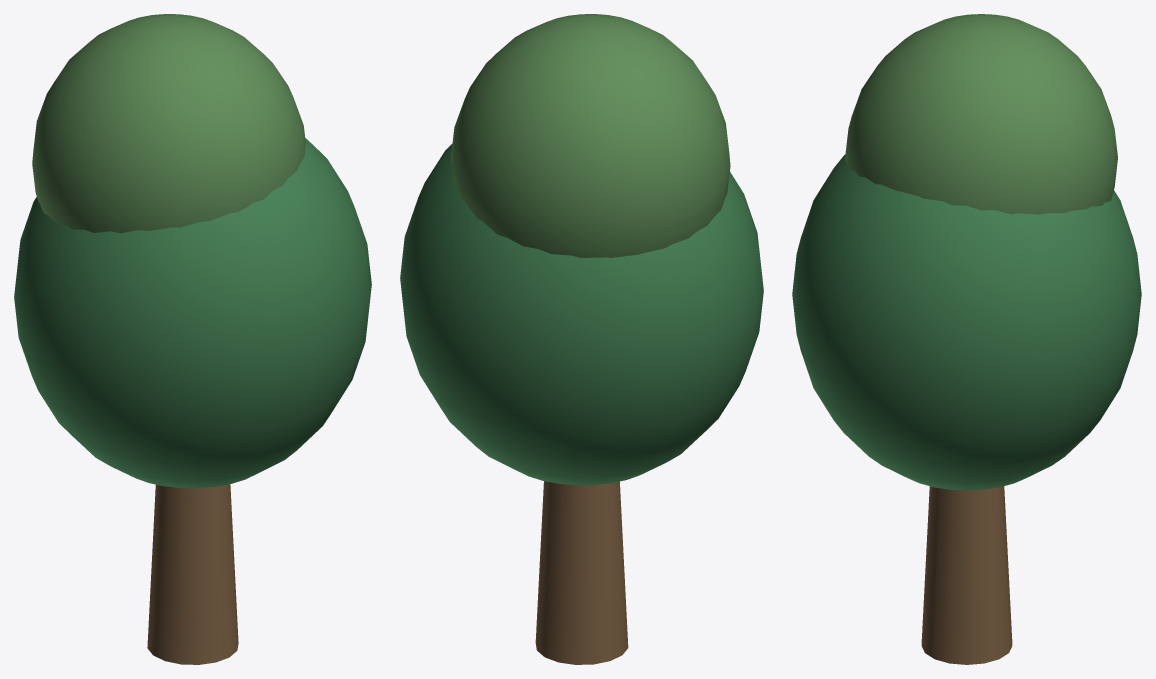
The model's file is tree.glb.
3 views of the same model, side by side, from view 1: azimuth 30°, elevation 25°; view 2: azimuth 150°, elevation 25°; view 3: azimuth 270°, elevation 25° (orthographic). The views are drawn at different scales.
Parts seen in each view (by area): view 1: crown, crown-top, trunk; view 2: crown, crown-top, trunk; view 3: crown, crown-top, trunk.
Part boxes in pixels (x1,y1,x2,y2): crown: [14, 138, 371, 488]; crown-top: [32, 14, 305, 233]; trunk: [147, 484, 238, 664]; crown: [400, 143, 763, 485]; crown-top: [451, 14, 730, 257]; trunk: [535, 481, 628, 664]; crown: [792, 154, 1141, 490]; crown-top: [845, 14, 1117, 214]; trunk: [921, 486, 1012, 664].
Bounding box in the file's own units: 0.98 × 1.85 × 0.96.
